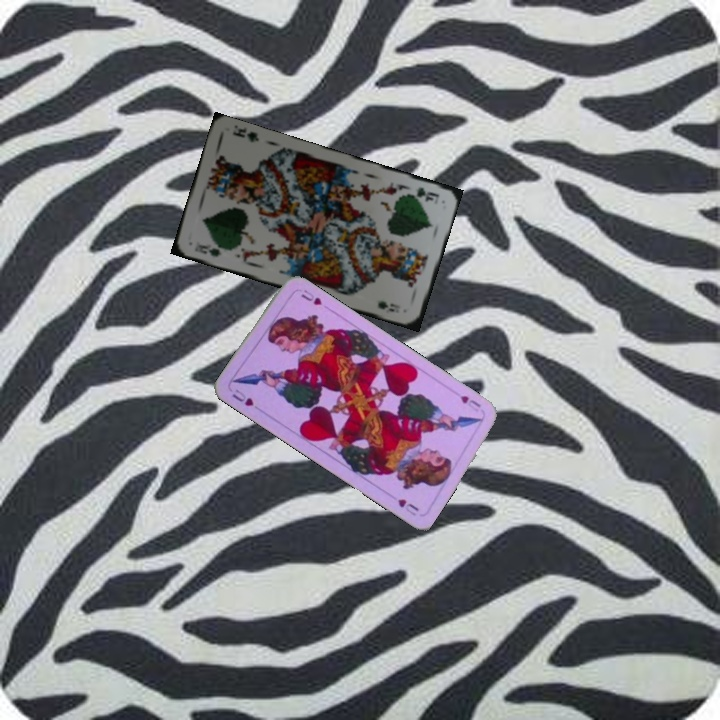GK: (403, 183, 442, 203), (190, 240, 229, 259)
HU: (228, 385, 256, 409), (456, 391, 484, 414)
